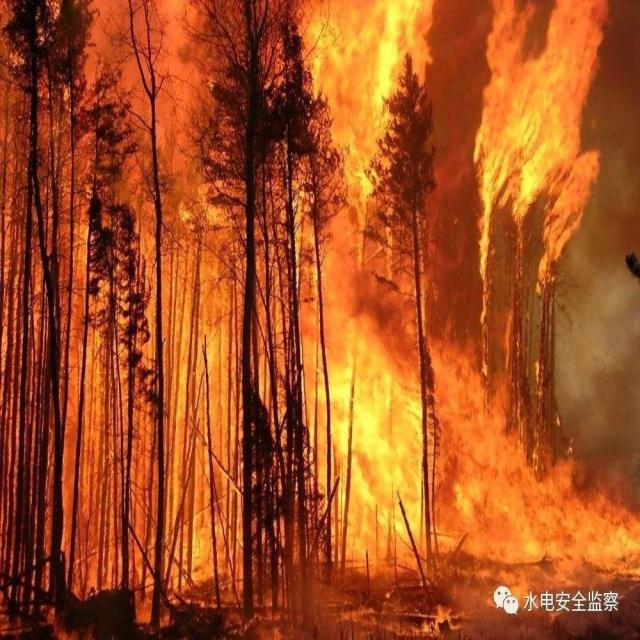fire: (12, 4, 632, 592)
